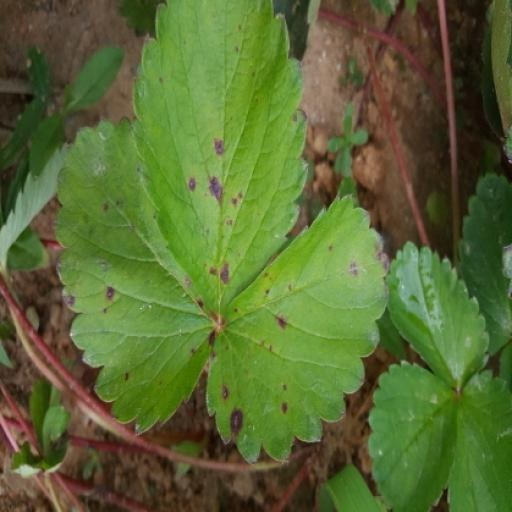Leaf Spot: (201, 184, 382, 511), (293, 76, 459, 398), (119, 43, 306, 318)
